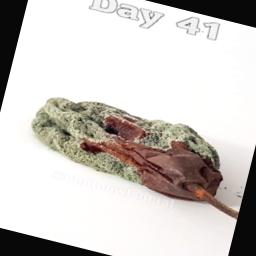Pear Rotten: (0, 61, 256, 211)
